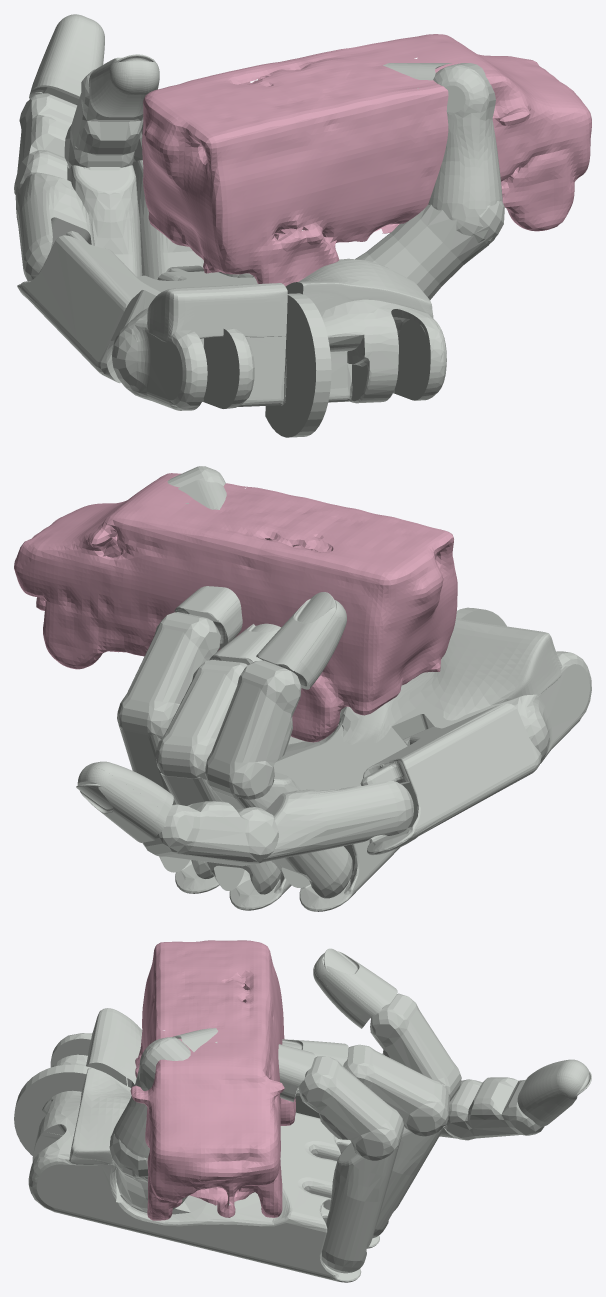
3 views of the same model, one above another, from view 1: azimuth 30°, elevation 25°; view 2: azimuth 150°, elevation 25°; view 3: azimuth 270°, elevation 25° (orthographic). The views are drawn at different scales.
Visible parts, largest first — view 1: hand, world; view 2: hand, world; view 3: hand, world.
Part boxes in pixels (box(x1,y1,x2,y2)): hand: box(14, 14, 504, 437); world: box(142, 34, 591, 286); hand: box(76, 466, 591, 911); world: box(14, 473, 457, 742); hand: box(14, 948, 591, 1282); world: box(130, 940, 295, 1220).
Bounding box in the file's own units: 0.1571 × 0.1002 × 0.1888.
